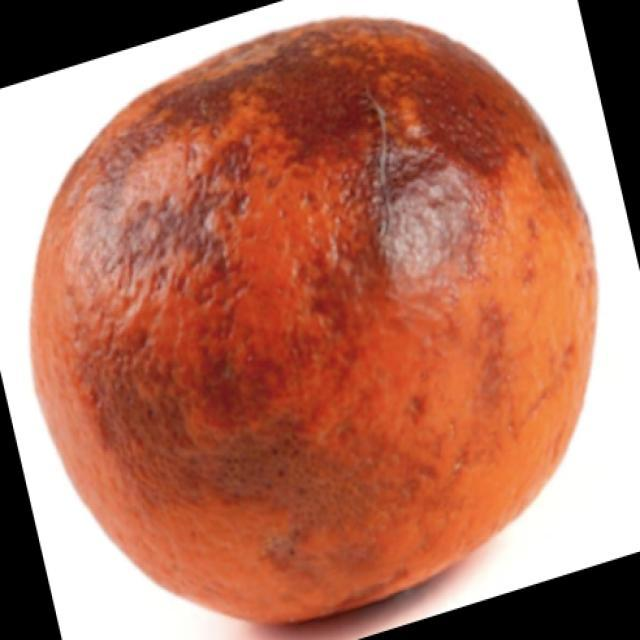sangat-busuk: (32, 18, 596, 622)
